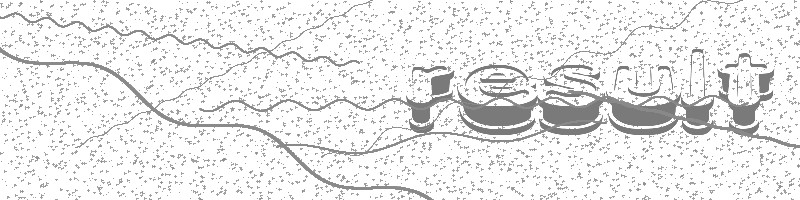e: (455, 60, 538, 134)
l: (682, 45, 715, 137)
r: (401, 60, 456, 134)
s: (538, 60, 605, 134)
t: (715, 51, 777, 139)
u: (605, 59, 682, 136)
